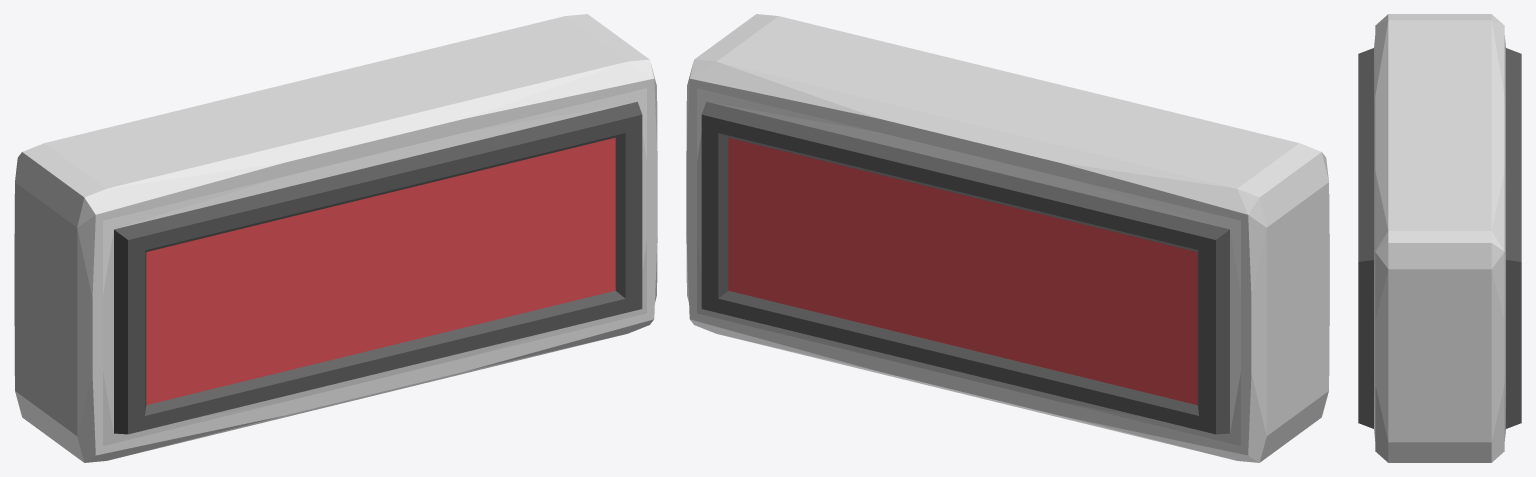
Rendered from Breakout Block.fbx.
3 views of the same model, side by side, from view 1: azimuth 30°, elevation 25°; view 2: azimuth 150°, elevation 25°; view 3: azimuth 270°, elevation 25° (orthographic). The views are drawn at different scales.
Parts seen in each view (by area): view 1: Cube; view 2: Cube; view 3: Cube.
Boxes of the visible parts, <box> form: Cube: <box>14,14,657,462</box>; Cube: <box>686,14,1329,462</box>; Cube: <box>1358,14,1521,462</box>.
Bounding box in the file's own units: 426 × 191 × 125.
